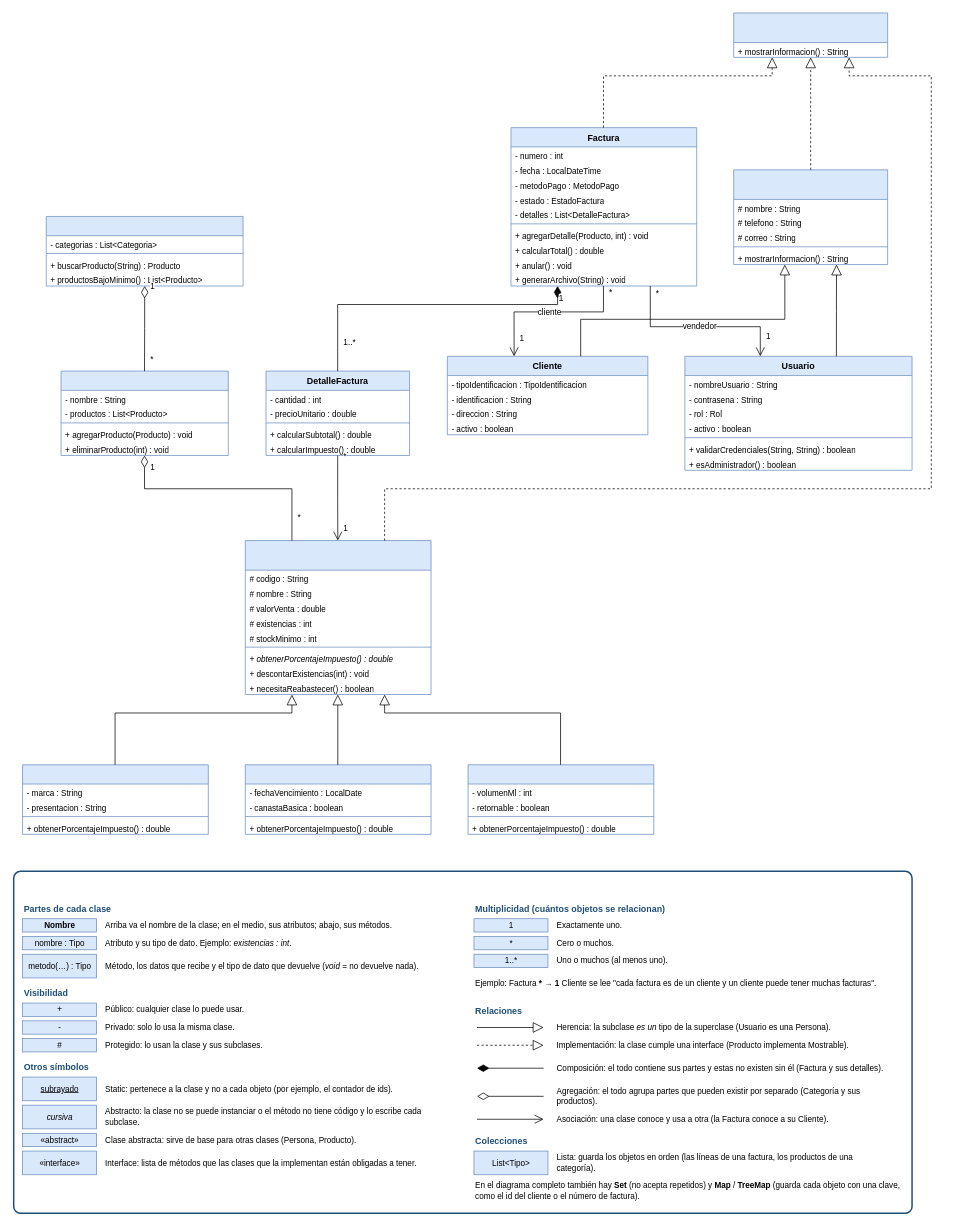
This 955x1227 diagram has some shape labels left out. The box of each missing label's shape, as (x1, y1, x2, y2) in pixels:
Abarrote: (245, 764, 431, 834)
ArticuloHogar: (22, 764, 208, 834)
Bebida: (467, 764, 654, 834)
Categoria: (60, 370, 228, 455)
Inventario: (46, 216, 243, 286)
Simbología del diagrama: (13, 870, 912, 1214)
«abstract» Persona: (733, 169, 888, 265)
«abstract» Producto: (245, 540, 431, 694)
«interface» Mostrable: (733, 12, 888, 57)
